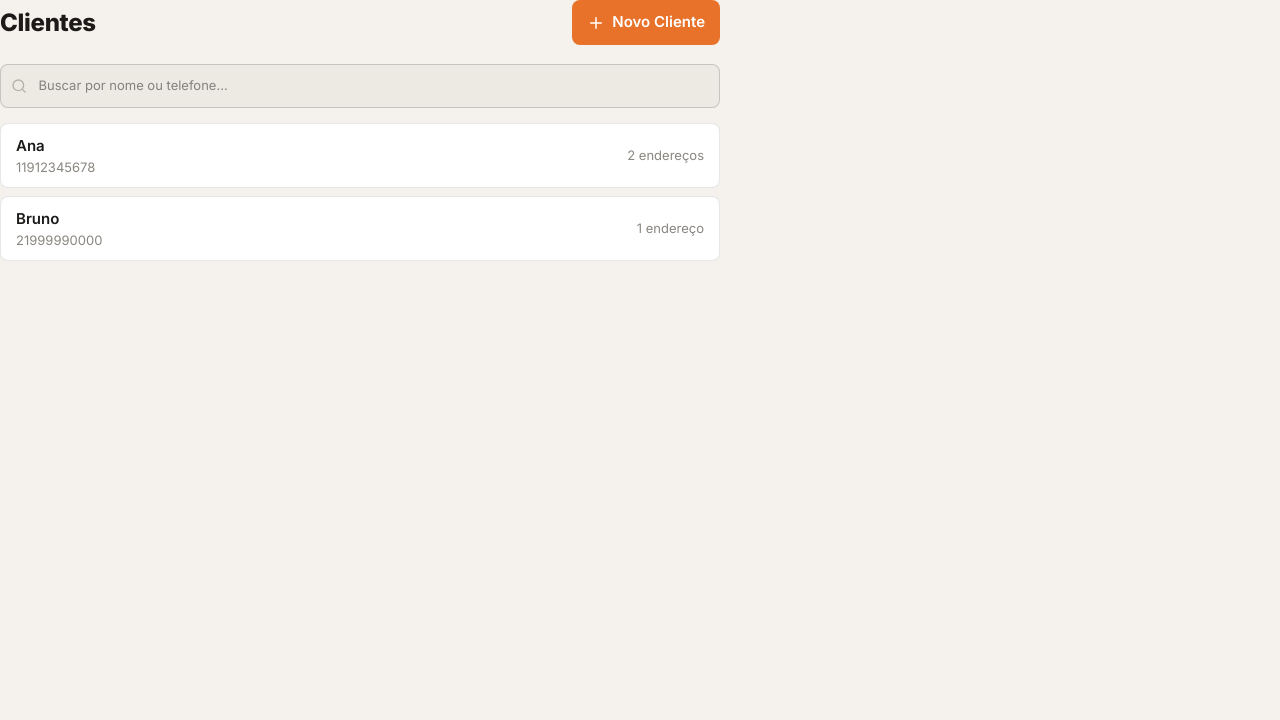
Test: CustomersPage › opens the new customer modal
Expected: the text "Ana" is shown, [16,136,45,155]
Click the button "Novo Cliente": (646, 22) [572,0,720,45]
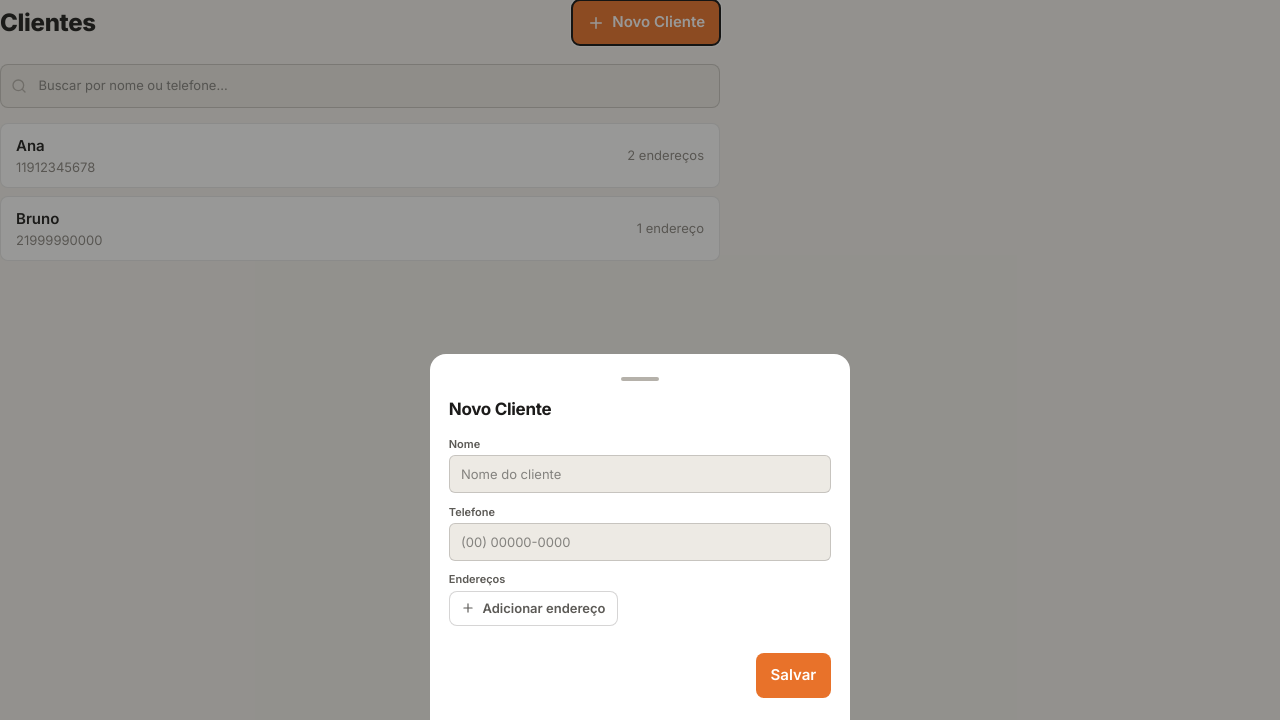
Result: the heading "Novo Cliente" is shown at [449,398,551,418]
